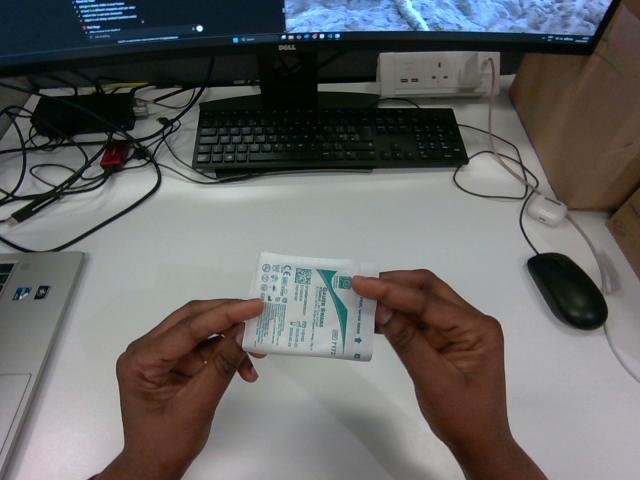gauze: (243, 253, 378, 360)
